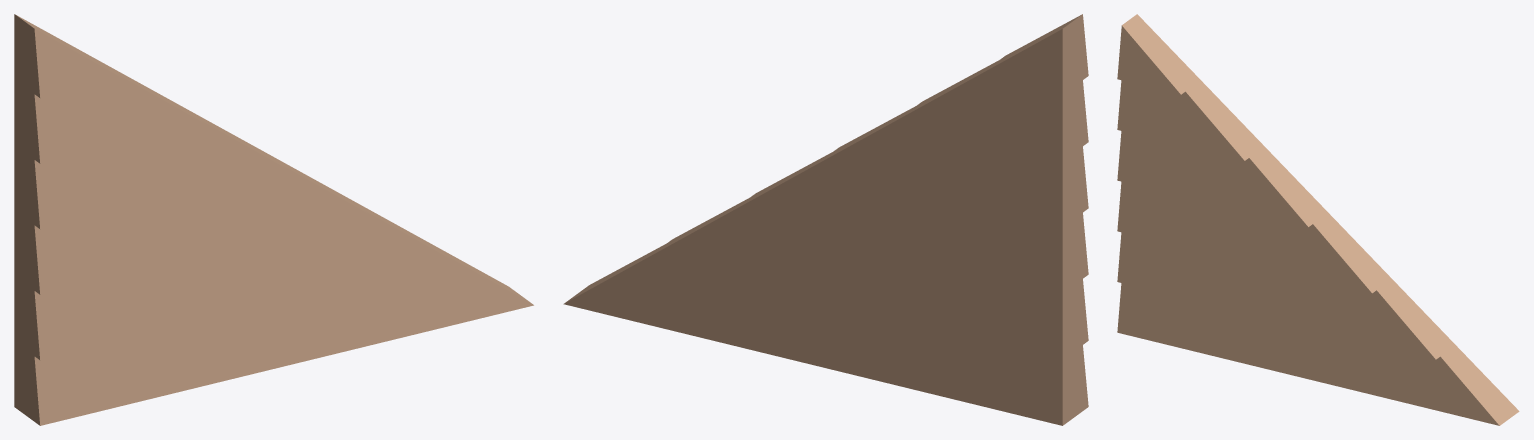
Rendered from cabinSide.glb.
3 views of the same model, side by side, from view 1: azimuth 30°, elevation 25°; view 2: azimuth 150°, elevation 25°; view 3: azimuth 330°, elevation 25° (orthographic). The views are drawn at different scales.
Parts seen in each view (by area): view 1: cabinSide(Clone); view 2: cabinSide(Clone); view 3: cabinSide(Clone).
Part boxes in pixels (x1,y1,x2,y2): cabinSide(Clone): [14, 14, 533, 425]; cabinSide(Clone): [563, 14, 1088, 425]; cabinSide(Clone): [1117, 14, 1519, 425].
Bounding box in the file's own units: 1 × 0.76 × 0.0902.
